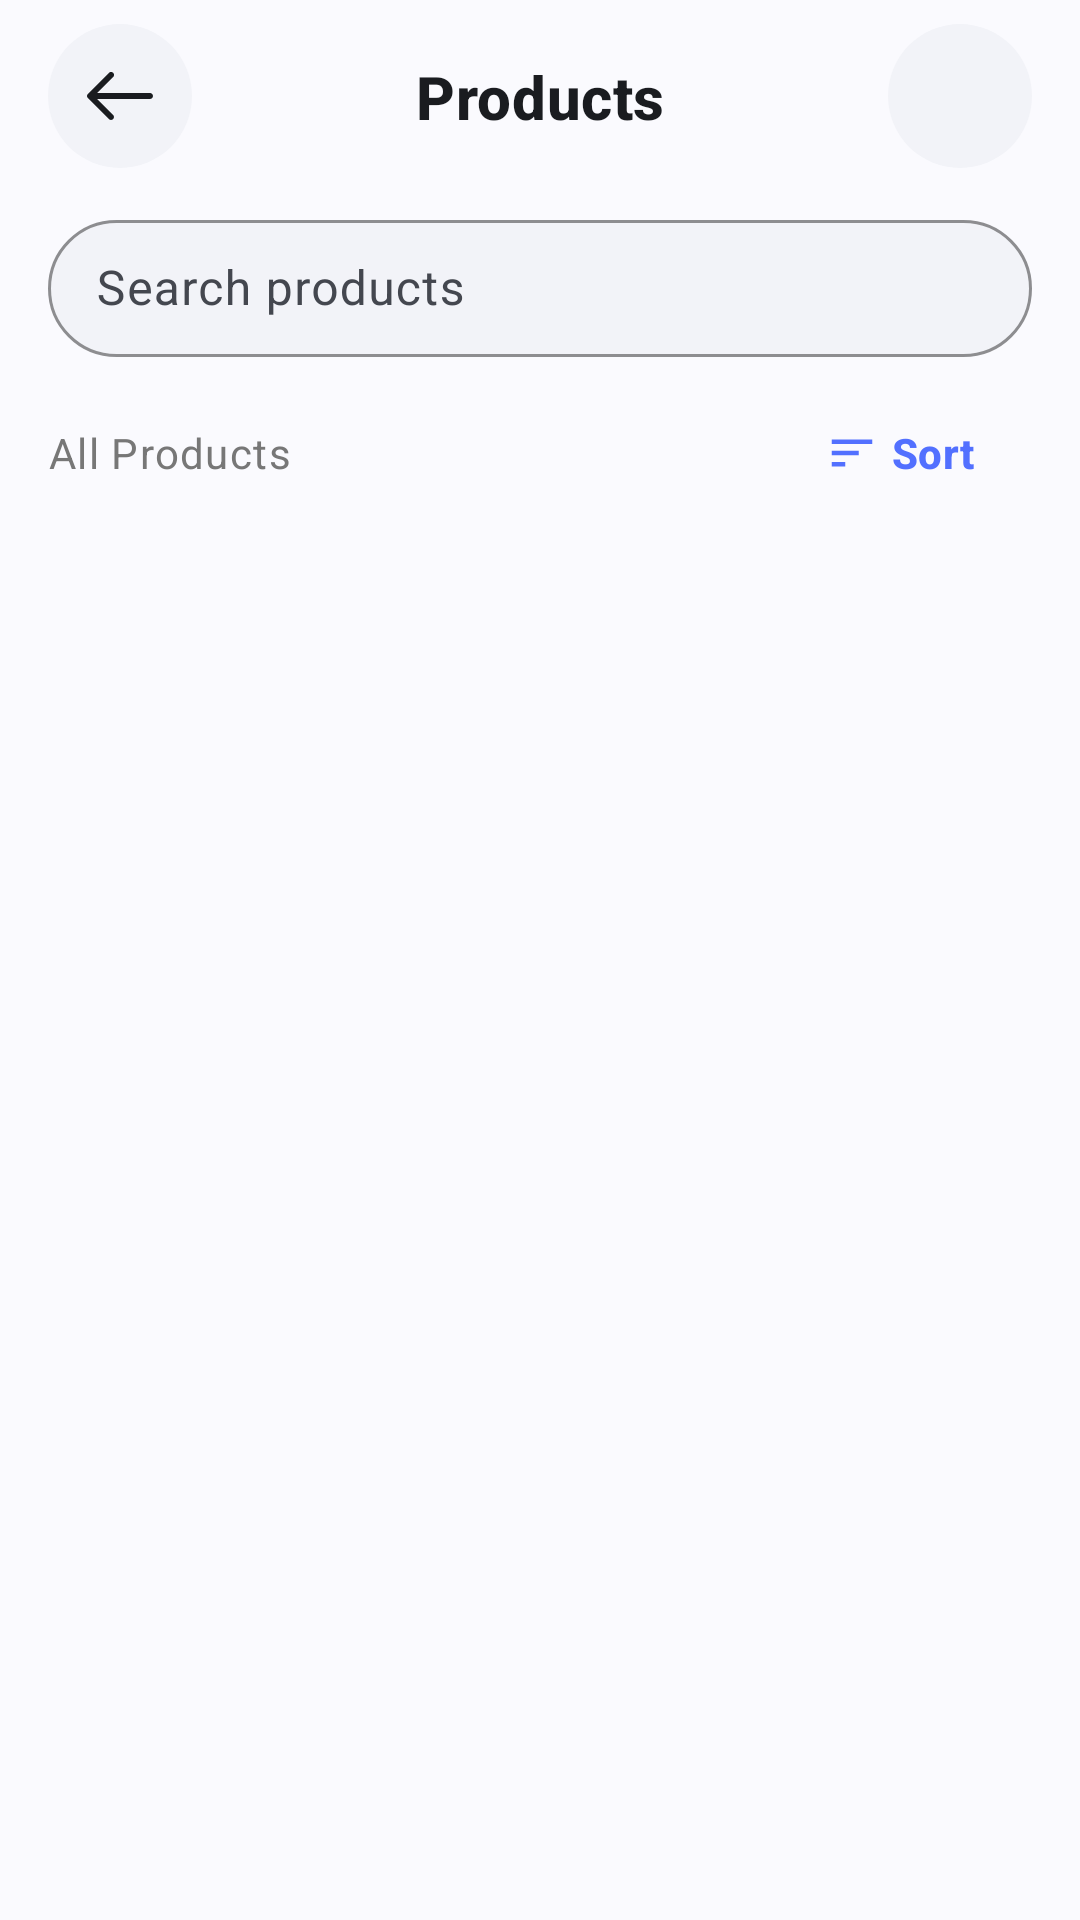

Locate icon controls on the screen. Image size 1080 × 1920, boxes as (x1,y1,x2,y2).
Go back: (87,72,153,120)
